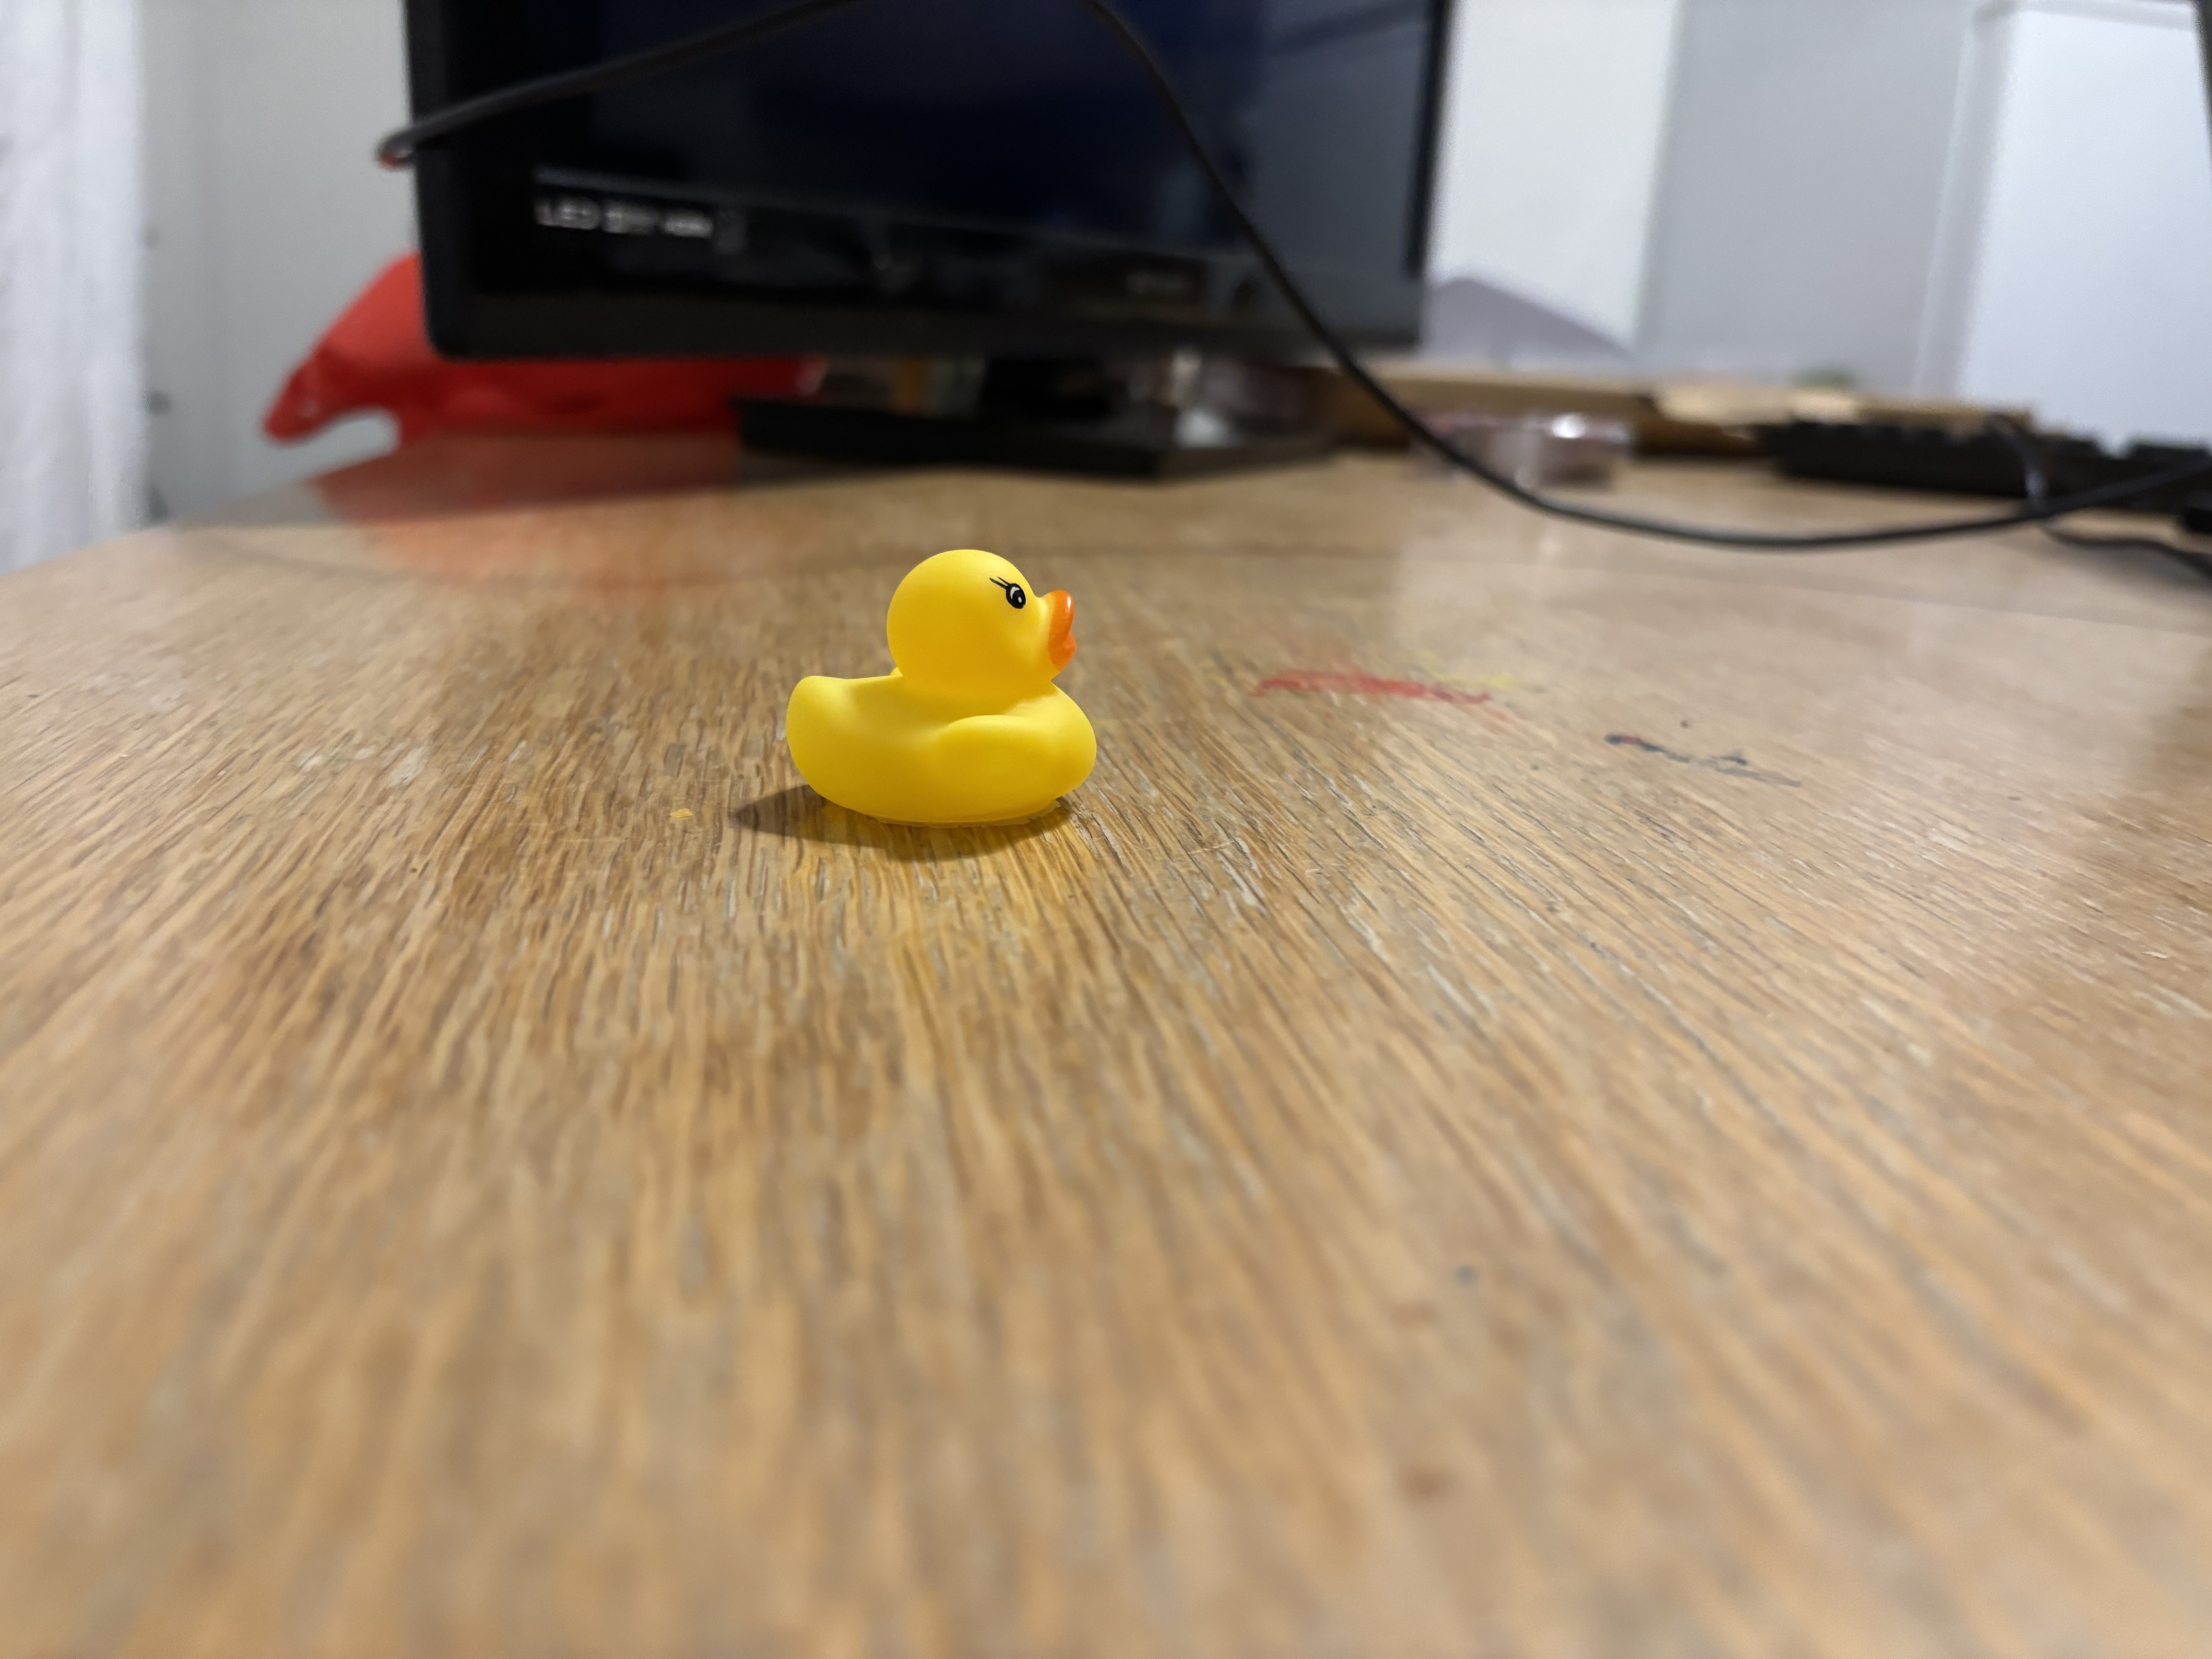duck_regular: (801, 547, 1134, 845)
